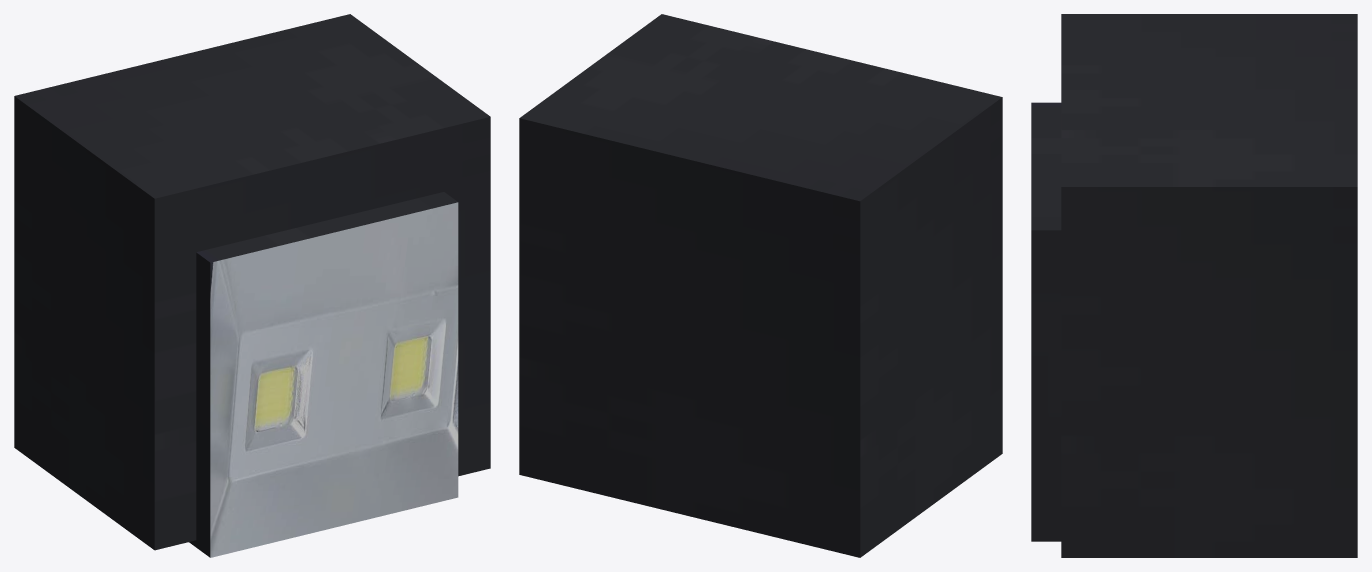
File: light.fbx
3 views of the same model, side by side, from view 1: azimuth 30°, elevation 25°; view 2: azimuth 150°, elevation 25°; view 3: azimuth 270°, elevation 25° (orthographic). The views are drawn at different scales.
Visible parts, largest first — view 1: Cube, Cube.001; view 2: Cube; view 3: Cube, Cube.001.
Part boxes in pixels (left/top/right/bottom): Cube: left=14, top=14, right=490, bottom=550; Cube.001: left=189, top=192, right=458, bottom=557; Cube: left=519, top=14, right=1002, bottom=557; Cube: left=1061, top=14, right=1357, bottom=557; Cube.001: left=1031, top=102, right=1061, bottom=541.
Size of the model in its own units: 39.86 by 50 by 51.03.
Materials: 1 (1 with a texture image).
